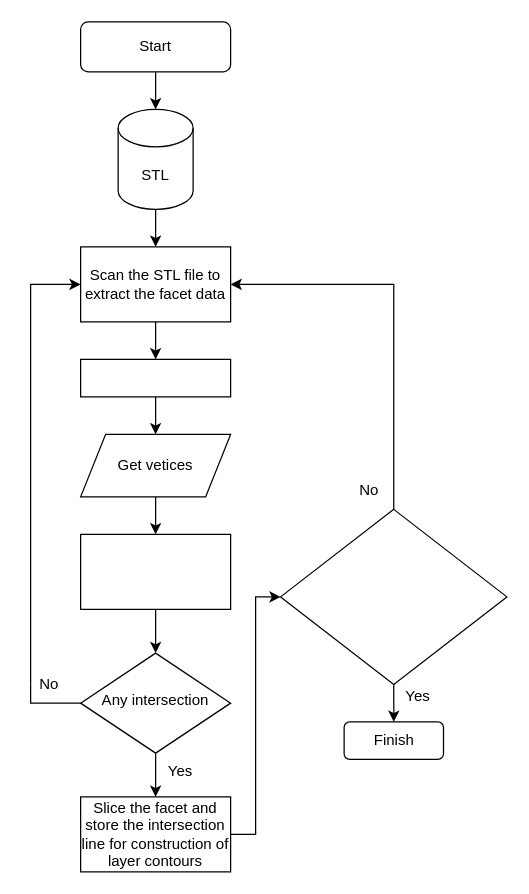
Some shapes in this 529 by 894 pixel diagram are drawn without their labels. Each missing label, with the centre of its shape:
"All of the facet has been scanned?" goes at point (393, 596).
"Compare the facet with cutting surface" goes at point (155, 571).
"Scan facet data" goes at point (155, 377).
